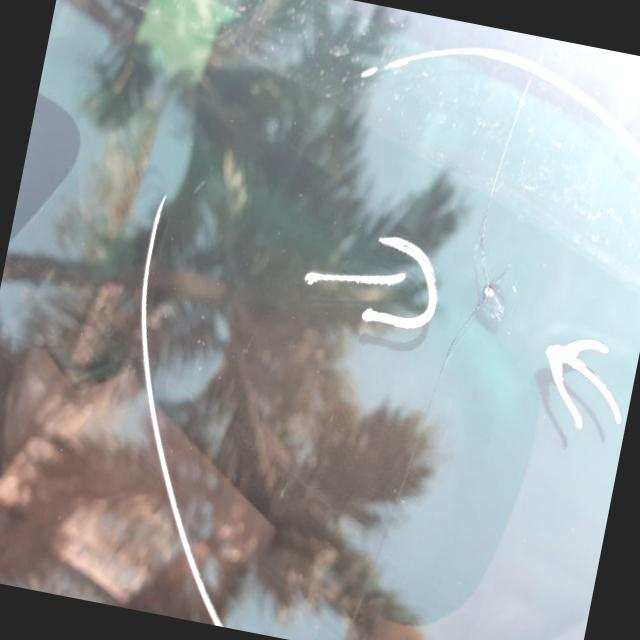Fissure: (311, 280, 494, 640), (444, 27, 563, 282), (416, 199, 552, 358)
